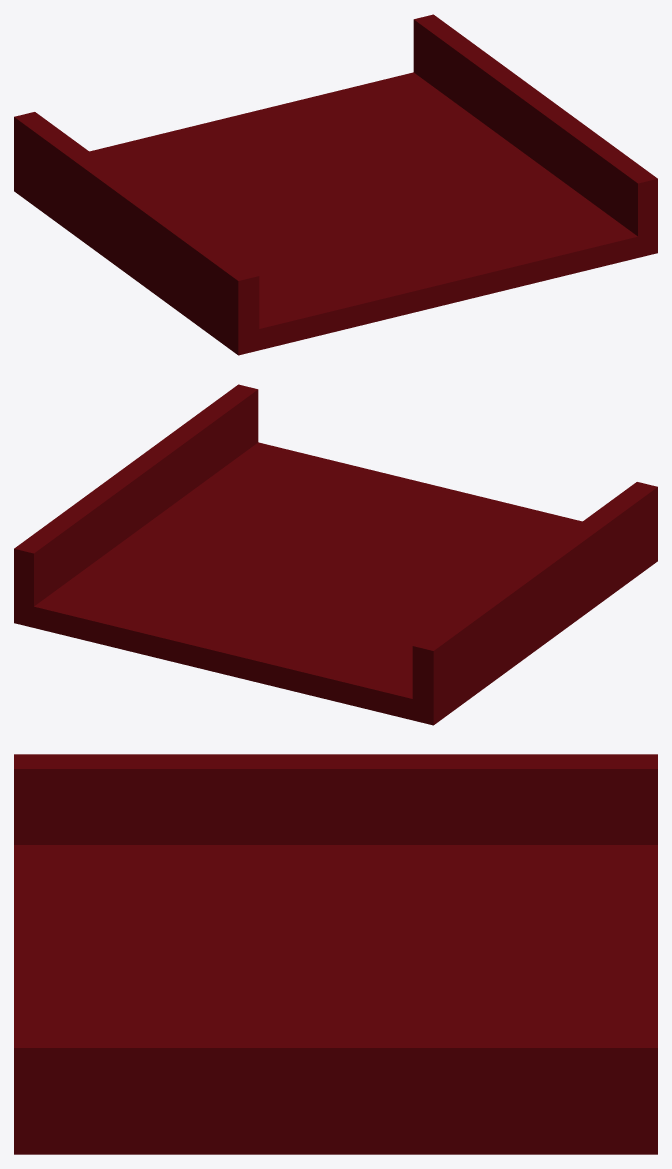
The model's file is rchivos_extra_ascensor.fbx.
The picture shows the model from 3 angles, top to bottom: view 1: azimuth 30°, elevation 25°; view 2: azimuth 150°, elevation 25°; view 3: azimuth 270°, elevation 25°; orthographic projection. The views are drawn at different scales.
Visible parts, largest first — view 1: base_asccensorv2; view 2: base_asccensorv2; view 3: base_asccensorv2.
Part boxes in pixels (box(x1,y1,x2,y2)): base_asccensorv2: box(14, 14, 657, 355); base_asccensorv2: box(14, 384, 657, 725); base_asccensorv2: box(14, 754, 657, 1154).
Size of what is drawn, in the model's own units: 297 by 50.42 by 276.
